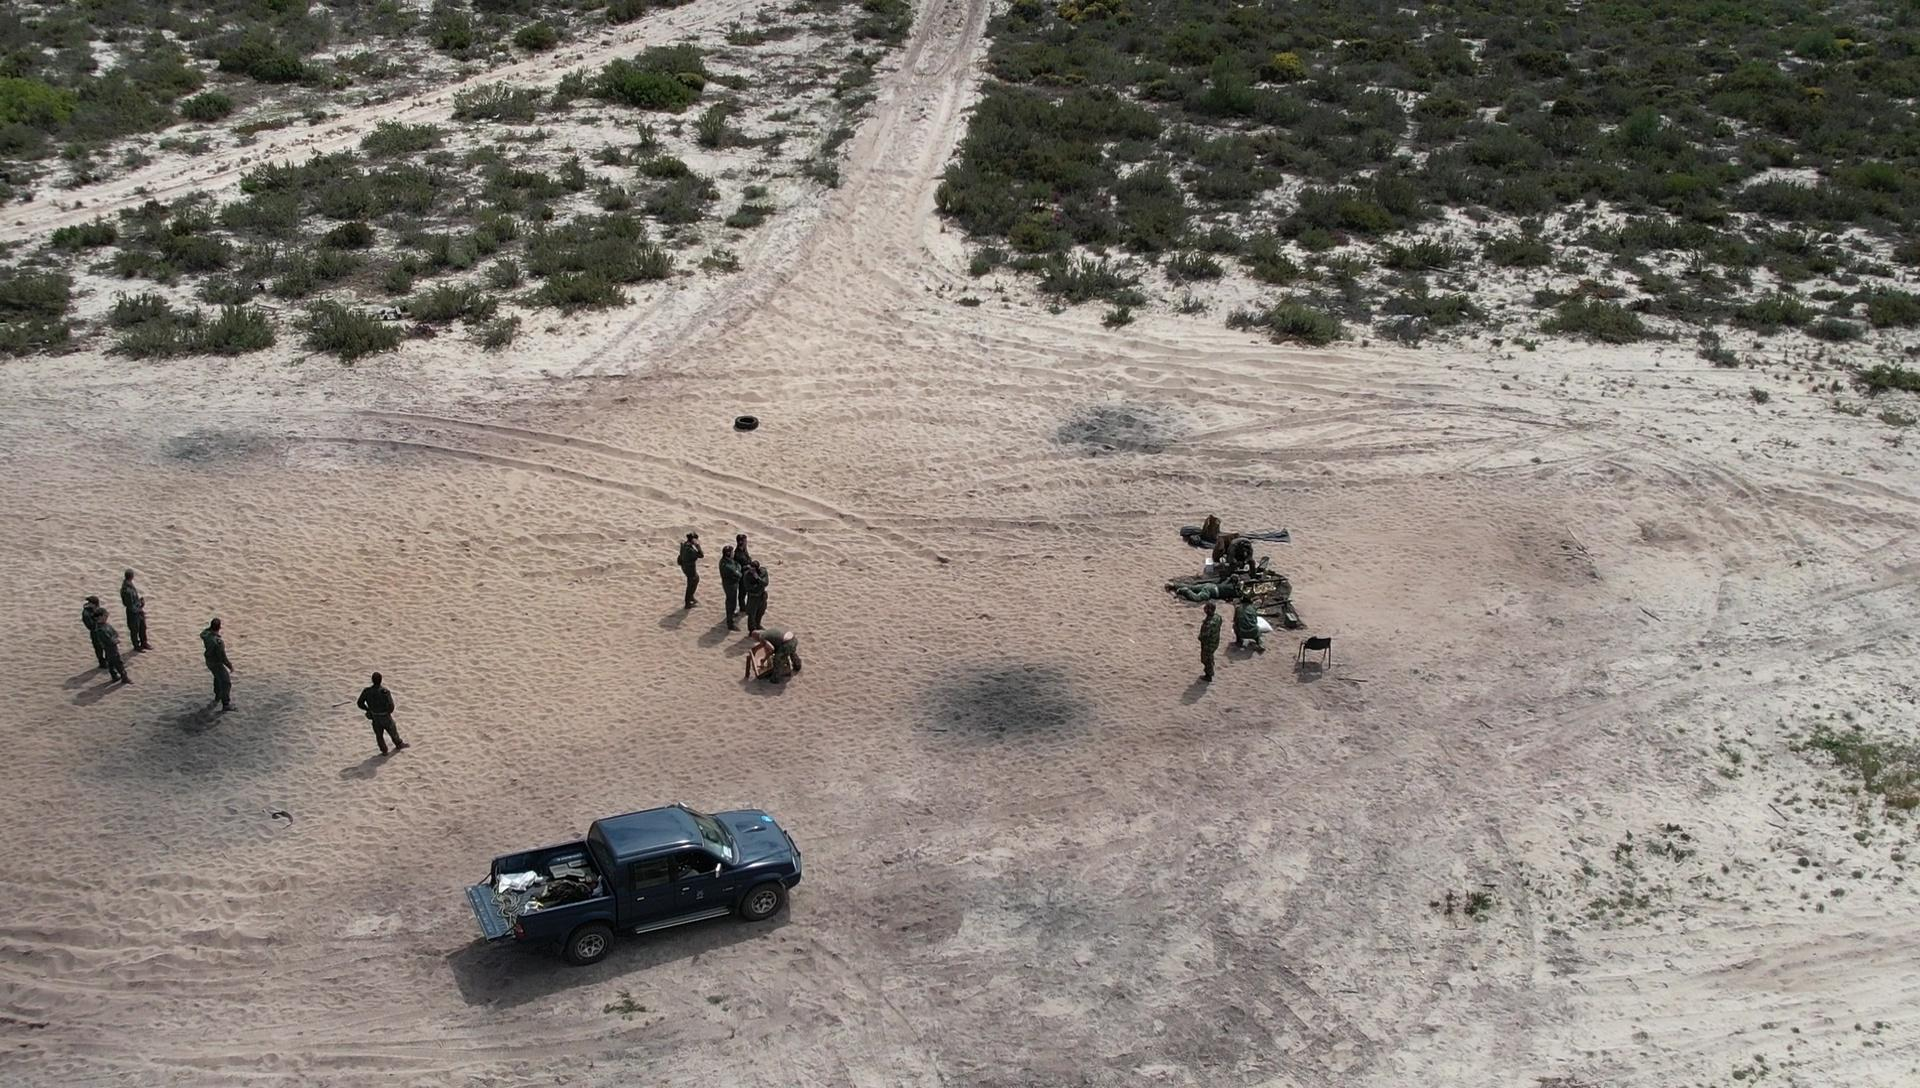Soldier: (348, 667, 422, 773), (193, 613, 248, 717), (1185, 591, 1234, 700), (113, 560, 165, 663), (753, 607, 807, 699), (87, 607, 135, 694), (673, 524, 709, 620), (1225, 584, 1270, 663), (705, 529, 740, 630), (742, 557, 782, 632), (1215, 525, 1261, 582)
